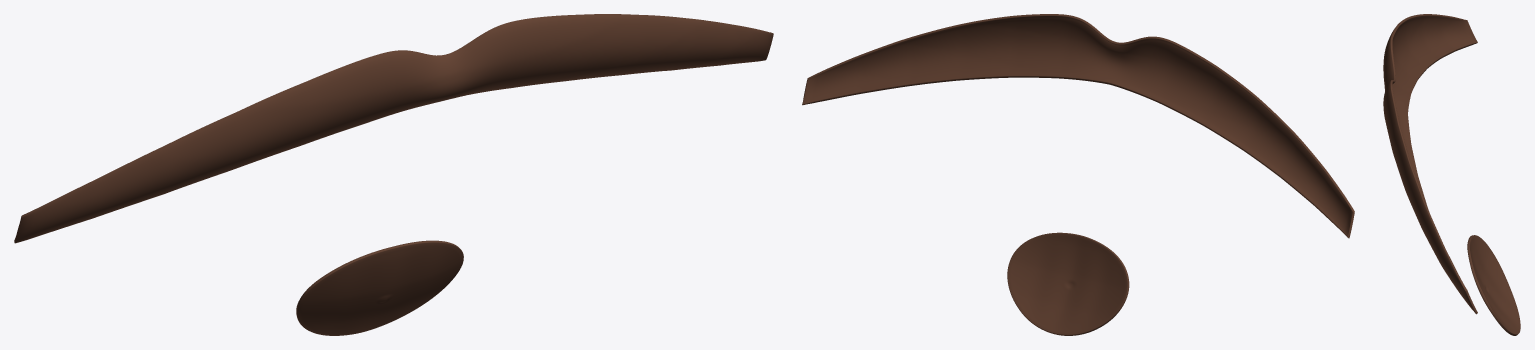
Rendered from Masculine-groom-patch.glb.
The picture shows the model from 3 angles, left to right: view 1: azimuth 30°, elevation 25°; view 2: azimuth 150°, elevation 25°; view 3: azimuth 270°, elevation 25°; orthographic projection. The views are drawn at different scales.
Parts seen in each view (by area): view 1: Groom / shared mustache185, Groom / small patch186; view 2: Groom / shared mustache185, Groom / small patch186; view 3: Groom / shared mustache185, Groom / small patch186.
Part boxes in pixels (<box>): Groom / shared mustache185: <box>14,14,773,243</box>; Groom / small patch186: <box>296,240,463,335</box>; Groom / shared mustache185: <box>802,14,1354,238</box>; Groom / small patch186: <box>1007,232,1129,335</box>; Groom / shared mustache185: <box>1383,14,1477,314</box>; Groom / small patch186: <box>1467,235,1520,335</box>.
Bounding box in the file's own units: 0.3012 × 0.1372 × 0.0643.
